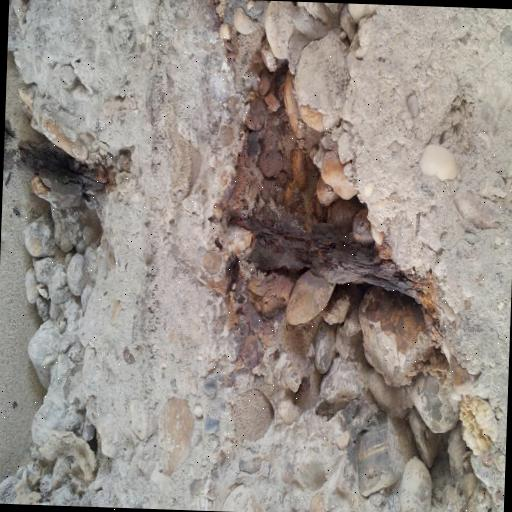spalling: (202, 7, 451, 390)
